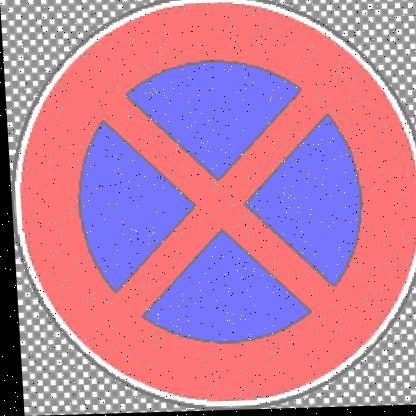No stopping: (1, 0, 416, 414)
